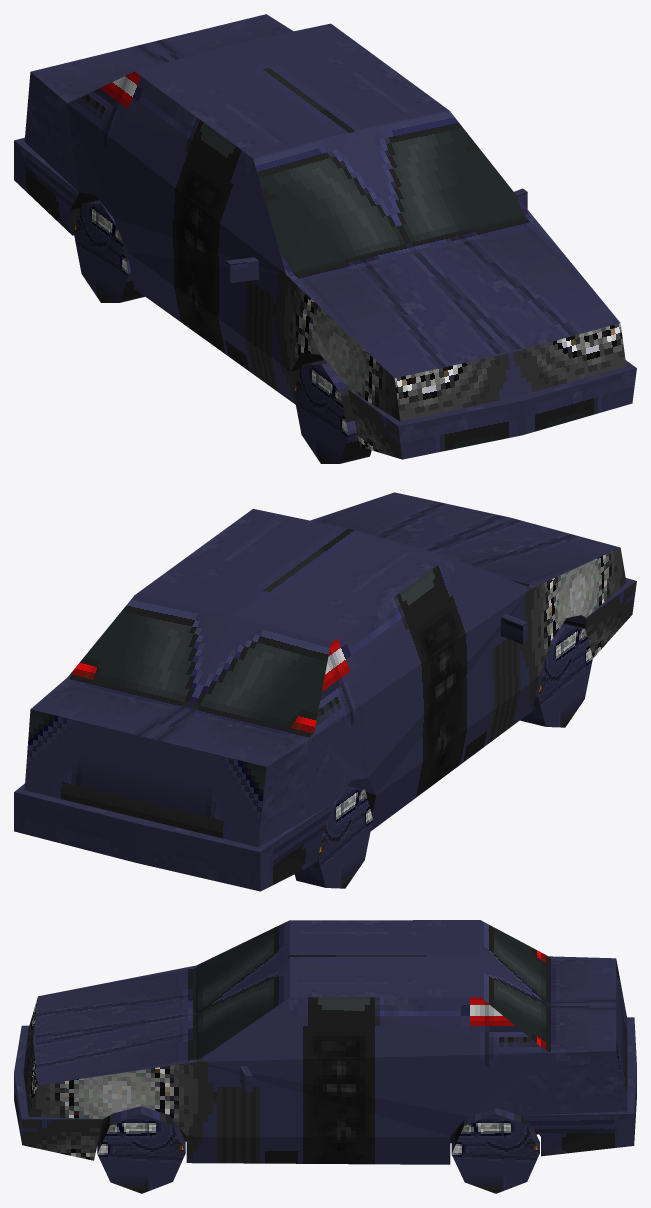
Rendered from player_sedan.glb.
3 views of the same model, one above another, from view 1: azimuth 30°, elevation 25°; view 2: azimuth 150°, elevation 25°; view 3: azimuth 270°, elevation 25° (orthographic). The views are drawn at different scales.
Parts seen in each view (by area): view 1: PlayerSedan; view 2: PlayerSedan; view 3: PlayerSedan.
Part boxes in pixels (x1,y1,x2,y2): PlayerSedan: (14, 14, 636, 463); PlayerSedan: (14, 492, 636, 891); PlayerSedan: (14, 920, 636, 1193).
Bounding box in the file's own units: 2.9 × 2.2 × 6.53.
Materials: 1 (1 with a texture image).
